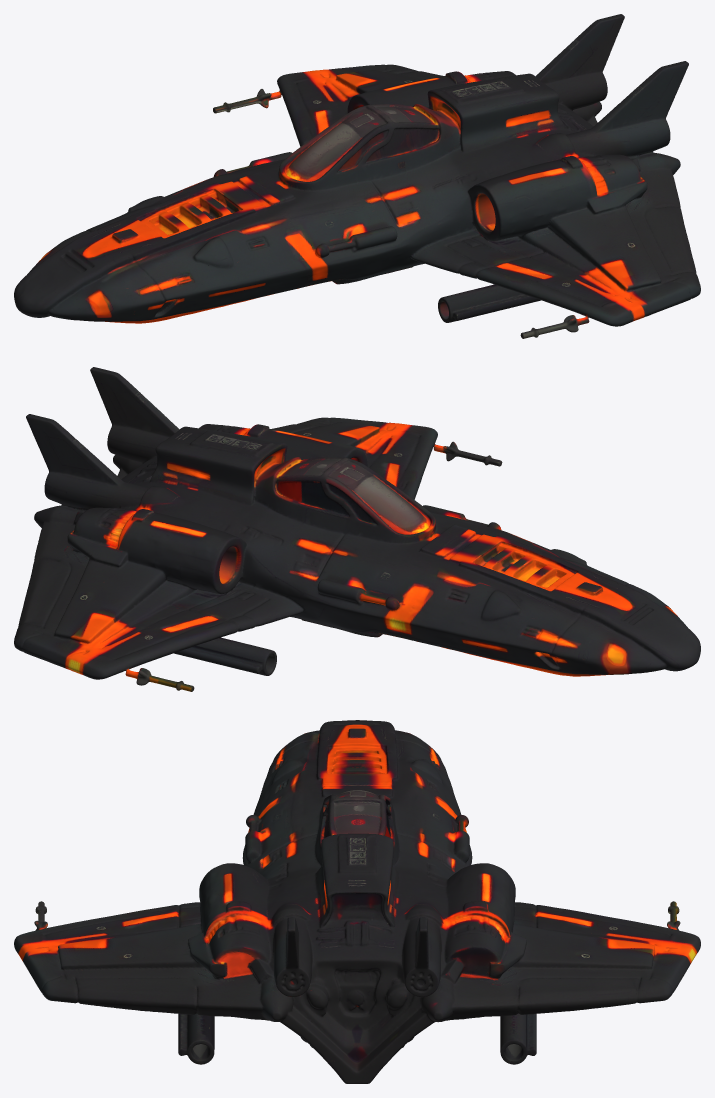
File: pyro.glb
3 views of the same model, one above another, from view 1: azimuth 30°, elevation 25°; view 2: azimuth 150°, elevation 25°; view 3: azimuth 270°, elevation 25° (orthographic). The views are drawn at different scales.
Bounding box in the file's own units: 1.9 × 0.4674 × 1.73.
1 material, 1 textured.
